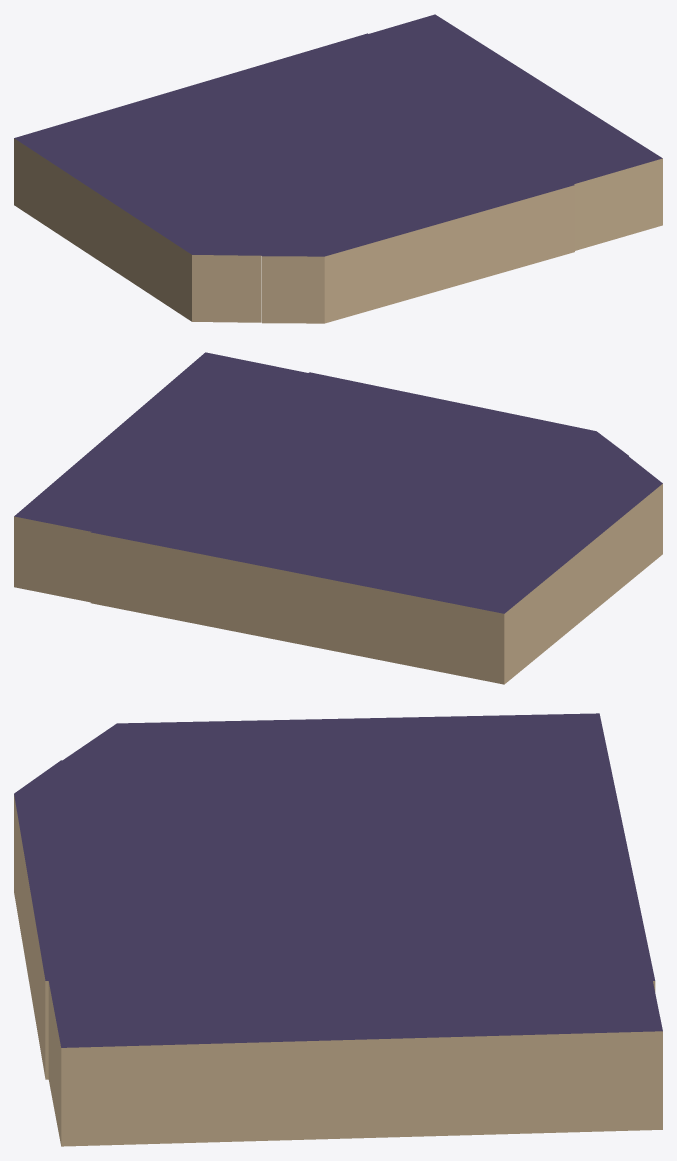
The picture shows the model from 3 angles, top to bottom: view 1: azimuth 30°, elevation 25°; view 2: azimuth 150°, elevation 25°; view 3: azimuth 270°, elevation 25°; orthographic projection. The views are drawn at different scales.
Parts seen in each view (by area): view 1: campus/b-129-0; view 2: campus/b-129-0; view 3: campus/b-129-0.
Boxes of the visible parts, box(x1,y1,x2,y2) form: campus/b-129-0: box(14, 14, 662, 323); campus/b-129-0: box(14, 352, 662, 684); campus/b-129-0: box(14, 713, 662, 1146).
Bounding box in the file's own units: 21.84 × 3 × 17.9.
